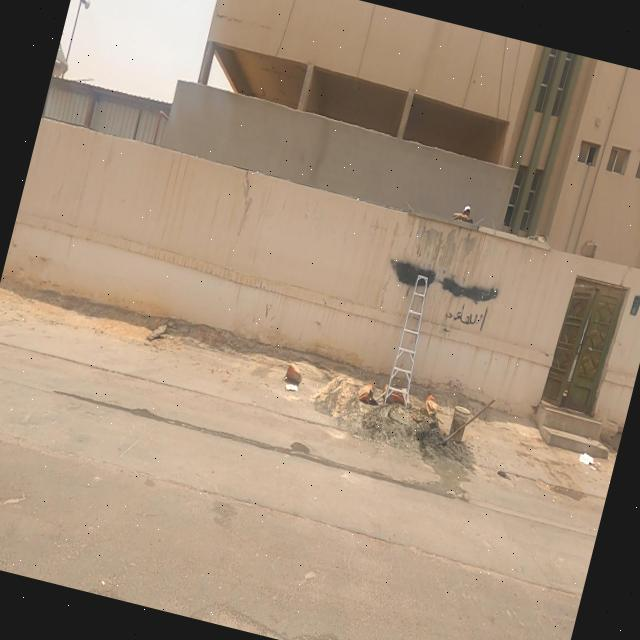Graffiti: (436, 271, 498, 306), (442, 300, 487, 334), (384, 258, 420, 288), (425, 266, 436, 287), (416, 265, 431, 276)
